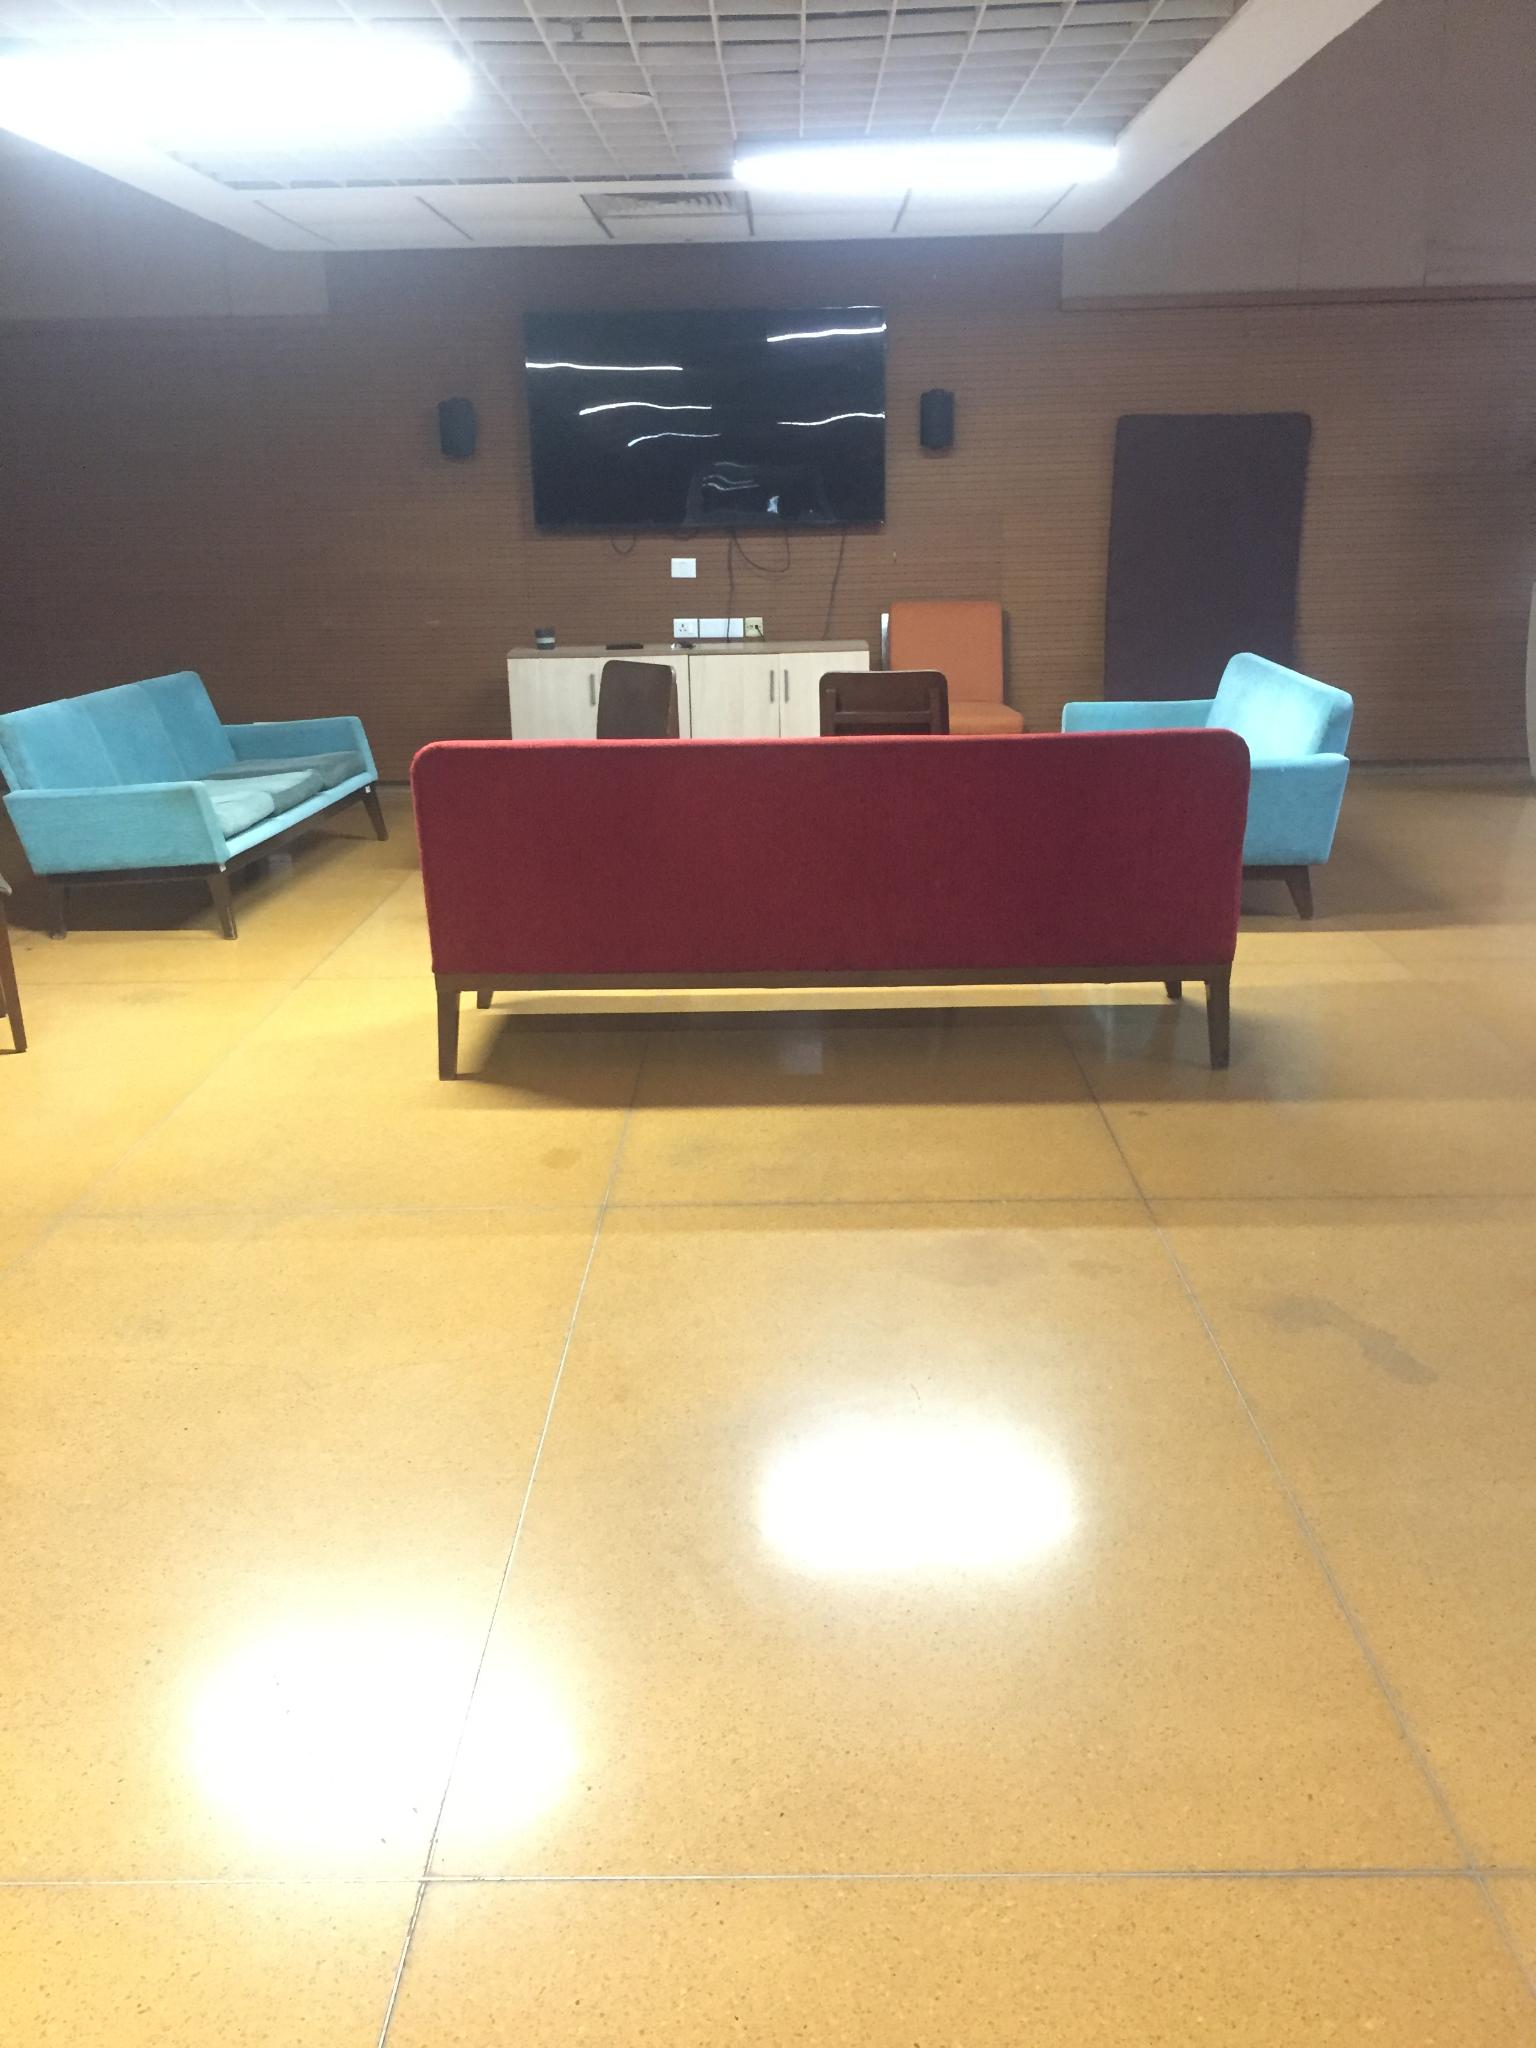chair: (878, 595, 1015, 797), (824, 669, 957, 784), (592, 650, 681, 785), (0, 853, 42, 1058)
